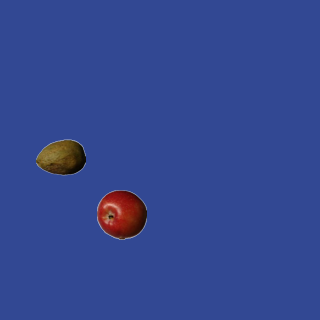Apple Braeburn: (96, 189, 146, 239)
Papaya: (35, 132, 85, 182)
